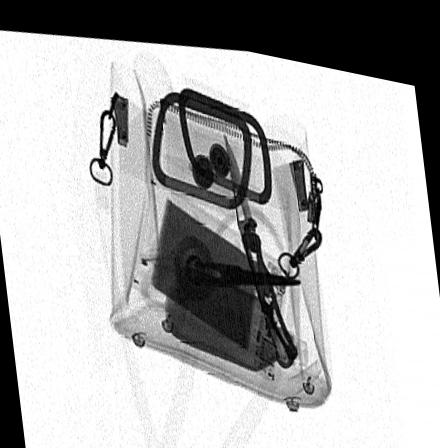Knife: (222, 114, 296, 359)
Powerbank: (145, 179, 289, 375)
Scissors: (163, 218, 302, 309)
